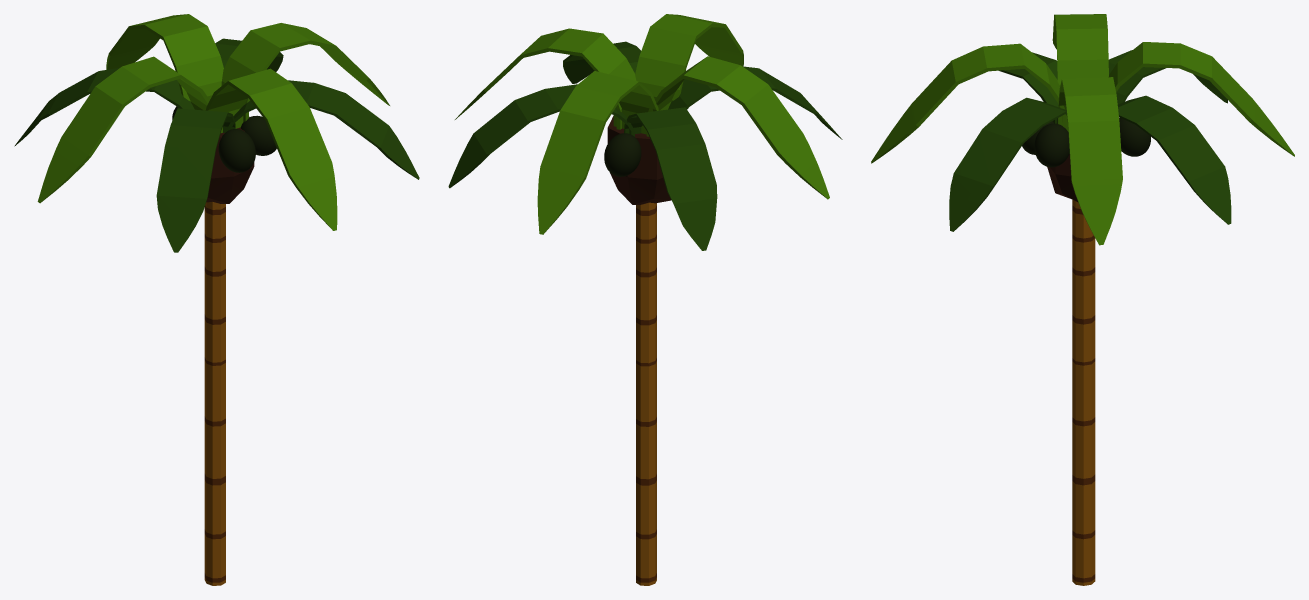
The model's file is Palm.obj.
3 renders of one model, left to right at view 1: azimuth 30°, elevation 25°; view 2: azimuth 150°, elevation 25°; view 3: azimuth 270°, elevation 25°, orthographic.
Parts seen in each view (by area): view 1: Cube.001; view 2: Cube.001; view 3: Cube.001.
Boxes of the visible parts, left/top/right/bottom form: Cube.001: left=14, top=14, right=419, bottom=585; Cube.001: left=448, top=14, right=842, bottom=585; Cube.001: left=871, top=14, right=1294, bottom=585.
Size of the model in its own units: 14.28 by 19.88 by 14.44.
